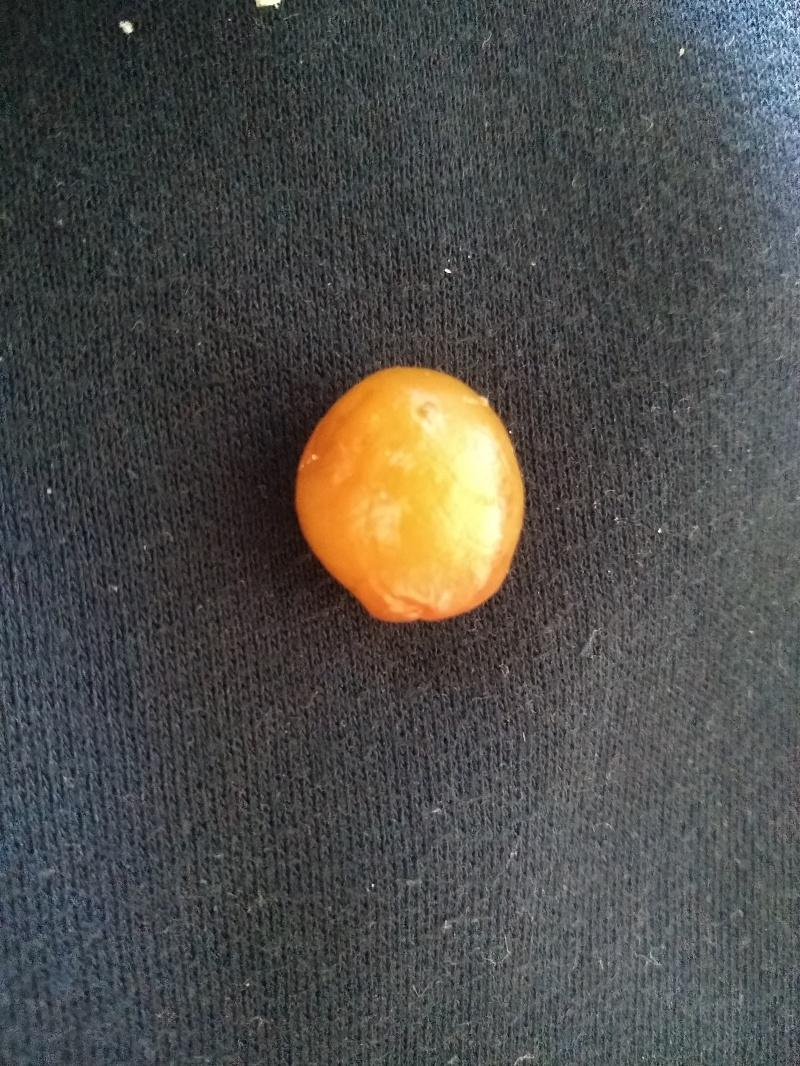Grape Rotten: (292, 366, 529, 629)
